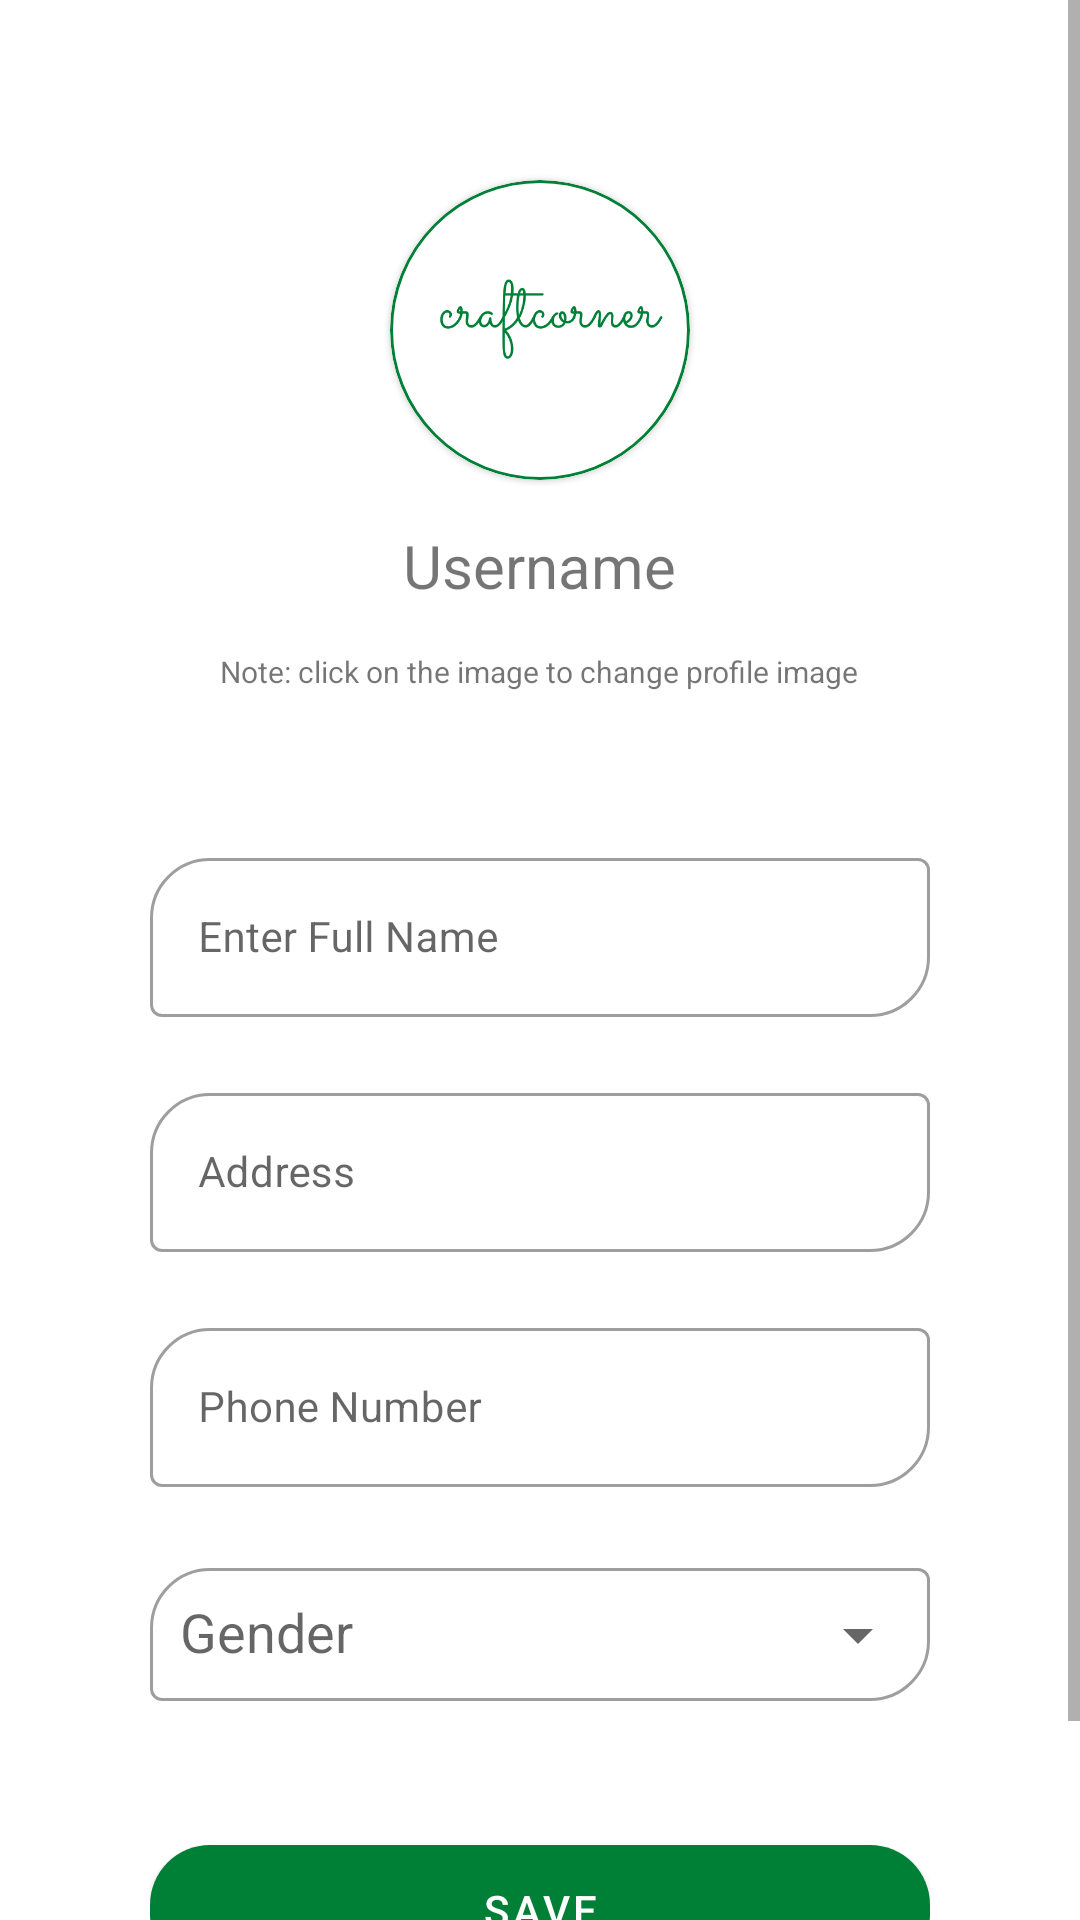

Screen size 1080px×1920px. Icon name, then its center in pixels as point (x, y):
profile: point (540, 330)
